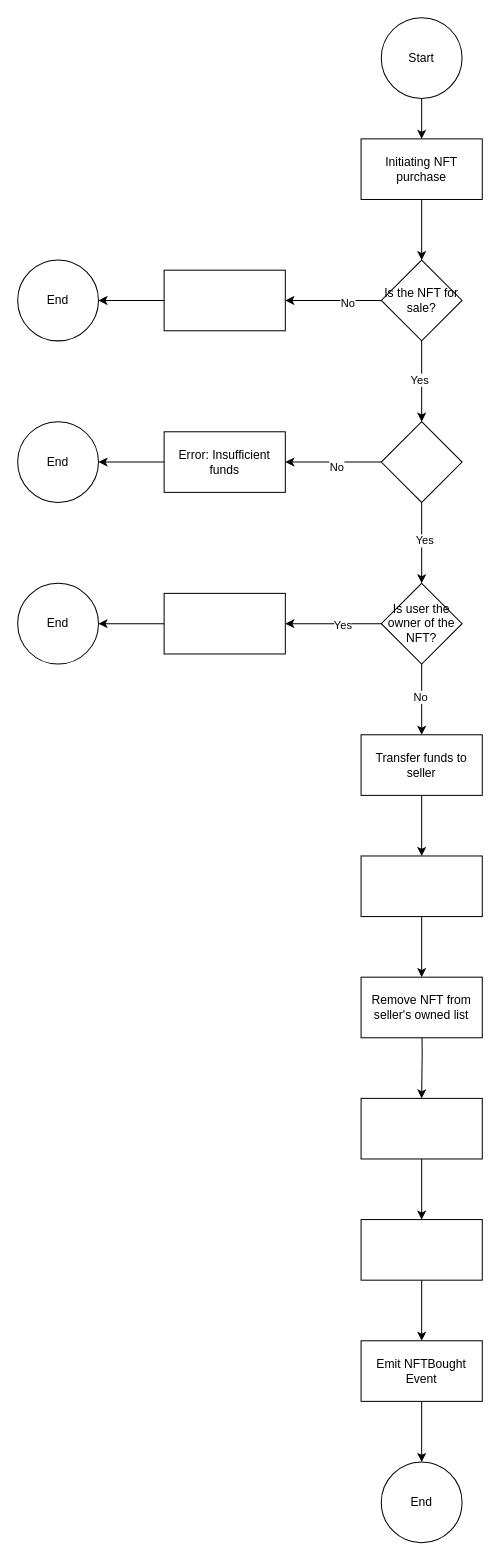
Image size: 500x1560. Some labels were removed from this diagram. The centre of each missing label's shape, as x and y in pixels:
Add NFT to user's owned list: point (421, 1128)
Error: Cannot buy your own NFT: point (224, 623)
Error: NFT not for sale: point (224, 300)
Has enough funds been provided by user?: point (421, 461)
Mark NFT as Not for sale: point (421, 1249)
Transfer ownership to user: point (421, 886)
